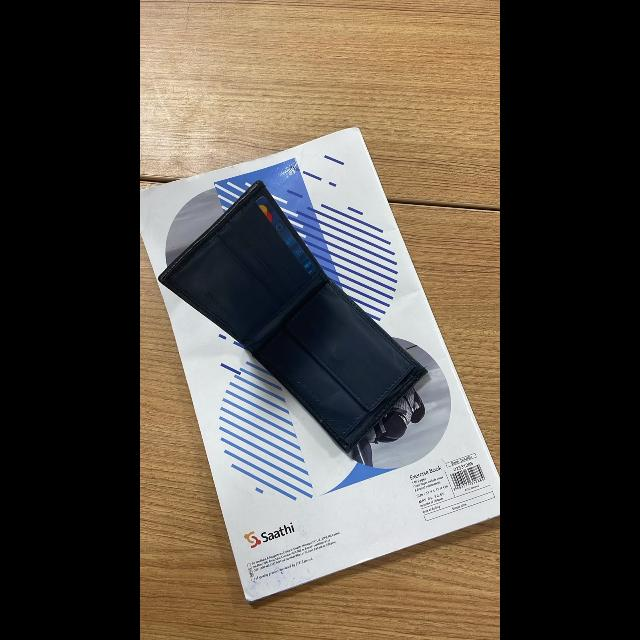wallet: (152, 192, 476, 470)
